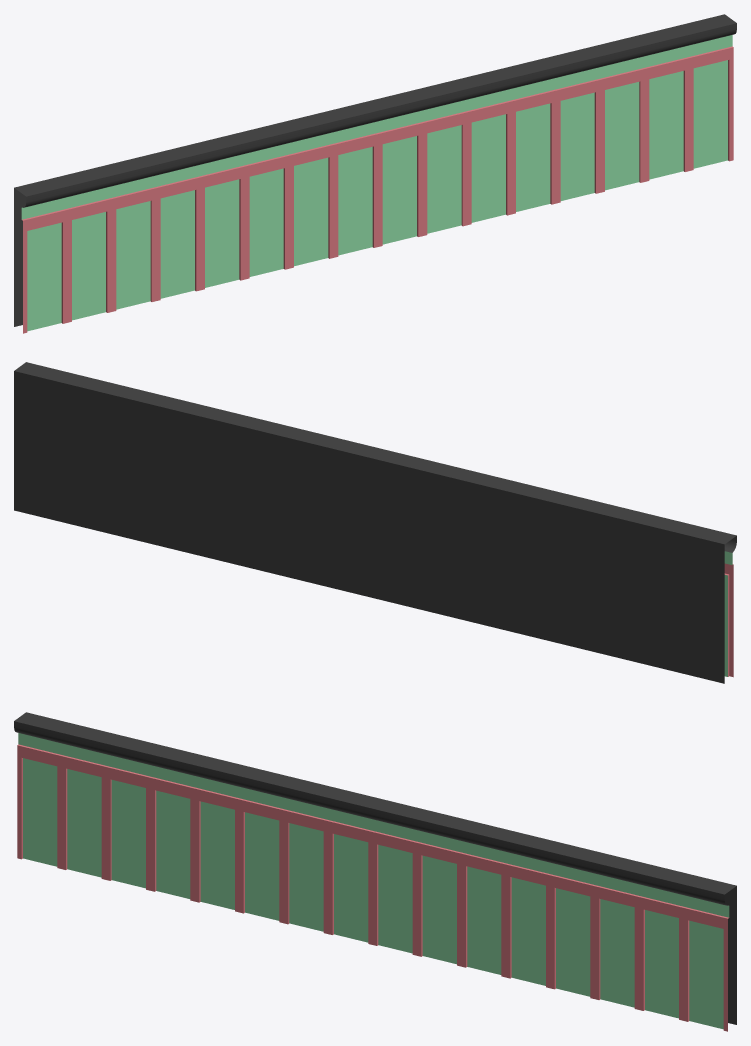
File: ShipWall16m.fbx
3 renders of one model, top to bottom at view 1: azimuth 30°, elevation 25°; view 2: azimuth 150°, elevation 25°; view 3: azimuth 330°, elevation 25°, orthographic.
Parts seen in each view (by area): view 1: Wall16m; view 2: Wall16m; view 3: Wall16m.
Part boxes in pixels (x1=…): Wall16m: x1=14, y1=14, x2=736, y2=333; Wall16m: x1=14, y1=362, x2=736, y2=683; Wall16m: x1=14, y1=712, x2=736, y2=1031.
Size of the model in its own units: 16 by 3 by 0.475.
